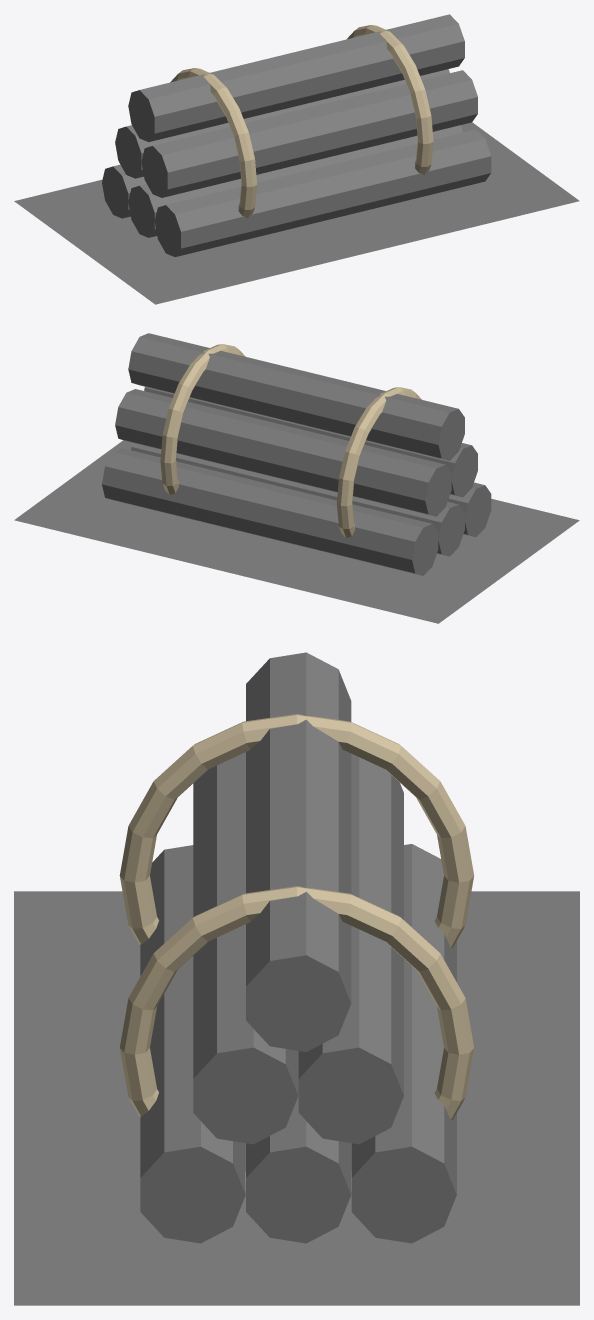
Rendered from firewood.glb.
The picture shows the model from 3 angles, top to bottom: view 1: azimuth 30°, elevation 25°; view 2: azimuth 150°, elevation 25°; view 3: azimuth 270°, elevation 25°; orthographic projection. The views are drawn at different scales.
Visible parts, largest first — view 1: ContactShadow, log, log.005, log.003, log.001, wrap, log.004, wrap.001, log.002; view 2: ContactShadow, log.002, log.005, log.004, log.001, log.003, wrap, wrap.001, log; view 3: ContactShadow, log.005, log.004, log.003, log, log.002, wrap.001, wrap, log.001.
Part boxes in pixels (x1,y1,x2,y2): ContactShadow: (14,122,579,304); log: (154,129,491,256); log.005: (128,14,464,142); log.003: (141,70,477,197); log.001: (128,125,462,237); wrap: (170,68,257,217); log.004: (115,69,449,178); wrap.001: (347,25,433,175); log.002: (102,164,146,218); ContactShadow: (14,440,579,623); log.002: (102,448,438,575); log.005: (128,333,464,460); log.004: (115,389,451,516); log.001: (131,443,464,556); log.003: (144,387,477,497); wrap: (336,387,421,537); wrap.001: (160,344,245,494); log: (447,482,491,537); ContactShadow: (14,891,579,1305); log.005: (246,652,351,1051); log.004: (298,753,403,1144); log.003: (193,752,298,1144); log: (140,845,245,1243); log.002: (351,844,456,1243); wrap.001: (119,886,474,1190); wrap: (119,714,474,947); log.001: (246,1096,351,1243).
Bounding box in the file's own units: 1.3 × 0.47 × 0.75.
Materials: 4 (3 with a texture image).
